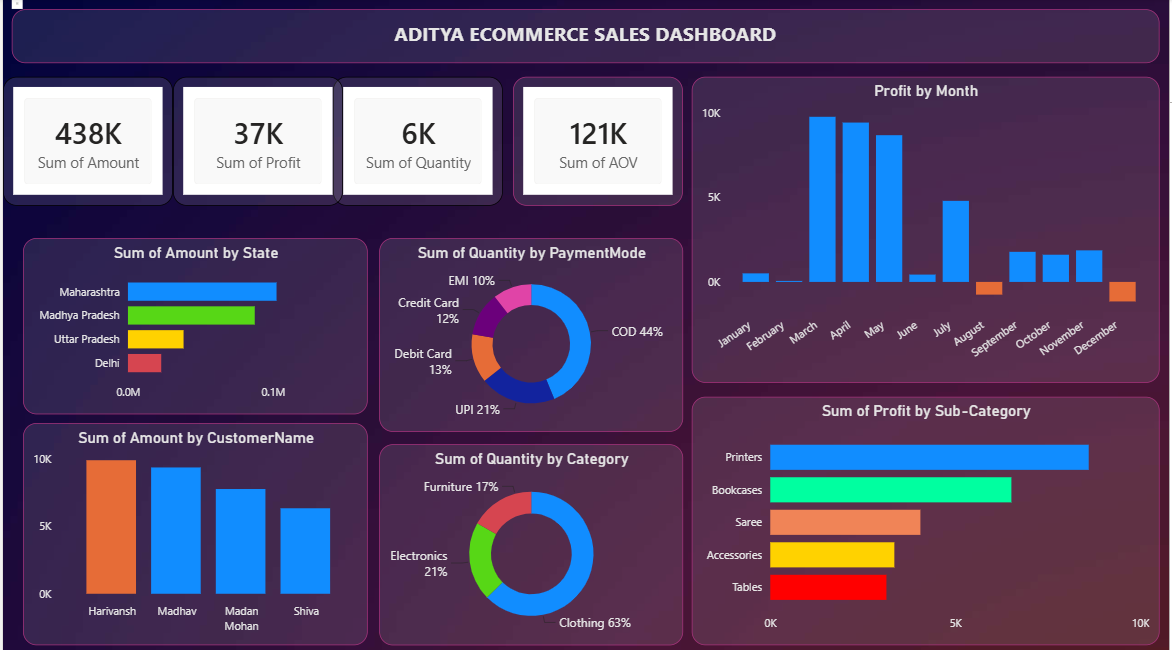

What the dashboard file says about the page in this screenshot:
{"tool":"powerbi","page":{"name":"Page 1","canvas":[1280,720],"ordinal":0},"visuals":[{"type":"textbox","box":[9.6,0,12.3,12.3],"z":0},{"type":"textbox","box":[9.6,12.3,1259.7,59],"z":1000},{"type":"columnChart","title":"Profit by Month","fields":{"Category":["Orders.Order Date.Variation.Date Hierarchy.Month"],"Y":["Sum(Details.Profit)"]},"box":[756.1,86.4,513.2,336.2],"z":2000},{"type":"barChart","fields":{"Category":["Details.Sub-Category"],"Y":["Sum(Details.Profit)"]},"box":[756.1,437.7,513.2,273.1],"z":3000},{"type":"donutChart","fields":{"Category":["Details.Category"],"Y":["Sum(Details.Quantity)"]},"box":[413,489.9,333.4,220.9],"z":4000},{"type":"donutChart","fields":{"Category":["Details.PaymentMode","Details.Category"],"Y":["Sum(Details.Quantity)"]},"box":[413,263.5,333.4,212.7],"z":5000},{"type":"cardVisual","fields":{"Data":["Sum(Details.Amount)"]},"box":[0,86.4,186.6,141.3],"z":6000},{"type":"cardVisual","fields":{"Data":["Sum(Details.Quantity)"]},"box":[362.3,86.4,186.6,141.3],"z":7000},{"type":"cardVisual","fields":{"Data":["Sum(Details.Profit)"]},"box":[186.6,86.4,186.6,141.3],"z":8000},{"type":"cardVisual","fields":{"Data":["Sum(Details.AOV)"]},"box":[559.9,86.4,186.6,141.3],"z":9000},{"type":"barChart","fields":{"Category":["Orders.State"],"Y":["Sum(Details.Amount)"]},"box":[22,263.5,378.7,193.5],"z":10000},{"type":"columnChart","fields":{"Category":["Orders.CustomerName"],"Y":["Sum(Details.Amount)"]},"box":[22,466.6,378.7,244.3],"z":11000}]}

Visuals, with their boxes in screenshot pixels (x1, y1, x2, y2), scaled from the page's 1280x720 canvas onto the 1172x650 screenshot:
textbox: 9/0/20/11
textbox: 9/11/1162/64
"Profit by Month" columnChart: 692/78/1162/382
barChart - Details.Sub-Category x Sum(Details.Profit): 692/395/1162/642
donutChart - Details.Category x Sum(Details.Quantity): 378/442/683/642
donutChart - Details.PaymentMode x Details.Category: 378/238/683/430
cardVisual - Sum(Details.Amount): 0/78/171/206
cardVisual - Sum(Details.Quantity): 332/78/503/206
cardVisual - Sum(Details.Profit): 171/78/342/206
cardVisual - Sum(Details.AOV): 513/78/684/206
barChart - Orders.State x Sum(Details.Amount): 20/238/367/413
columnChart - Orders.CustomerName x Sum(Details.Amount): 20/421/367/642
